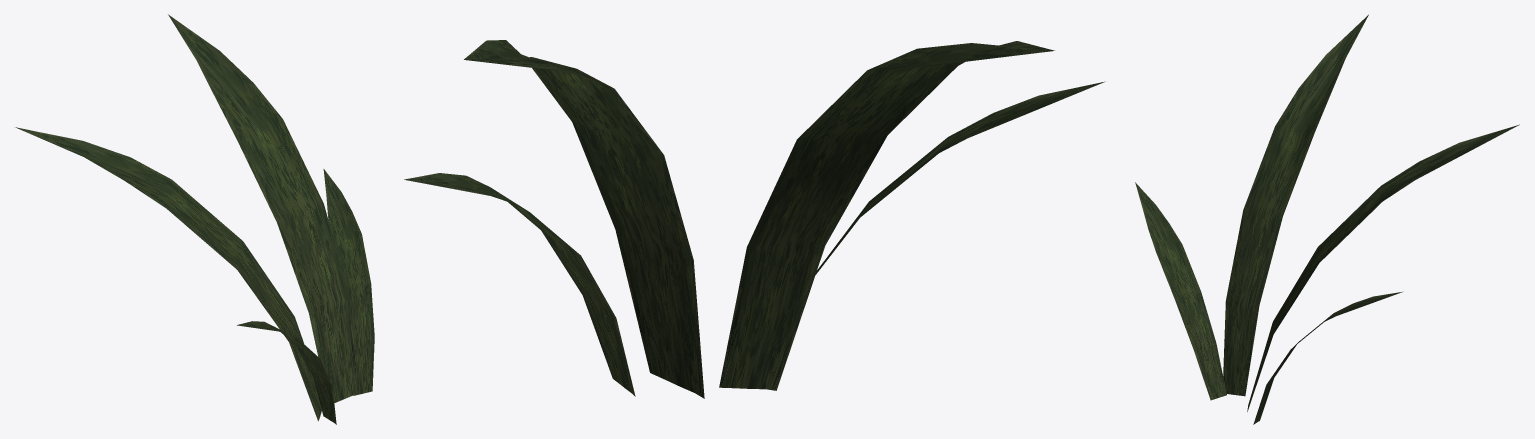
File: Grass 1.fbx
3 renders of one model, left to right at view 1: azimuth 30°, elevation 25°; view 2: azimuth 150°, elevation 25°; view 3: azimuth 270°, elevation 25°, orthographic. The views are drawn at different scales.
Visible parts, largest first — view 1: Plane011; view 2: Plane011; view 3: Plane011.
Part boxes in pixels (left/top/right/bottom): Plane011: left=15, top=14, right=374, bottom=424; Plane011: left=404, top=40, right=1104, bottom=398; Plane011: left=1135, top=14, right=1519, bottom=424.
Bounding box in the file's own units: 2.87 × 2.47 × 3.11.
